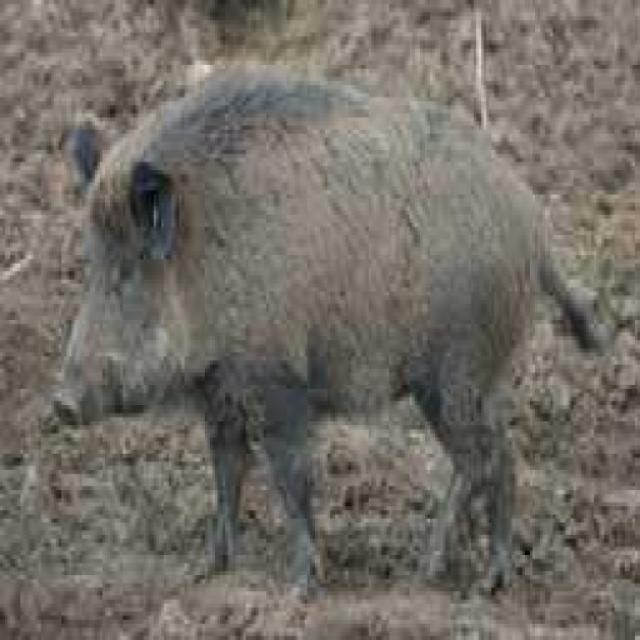pig: (52, 77, 604, 598)
